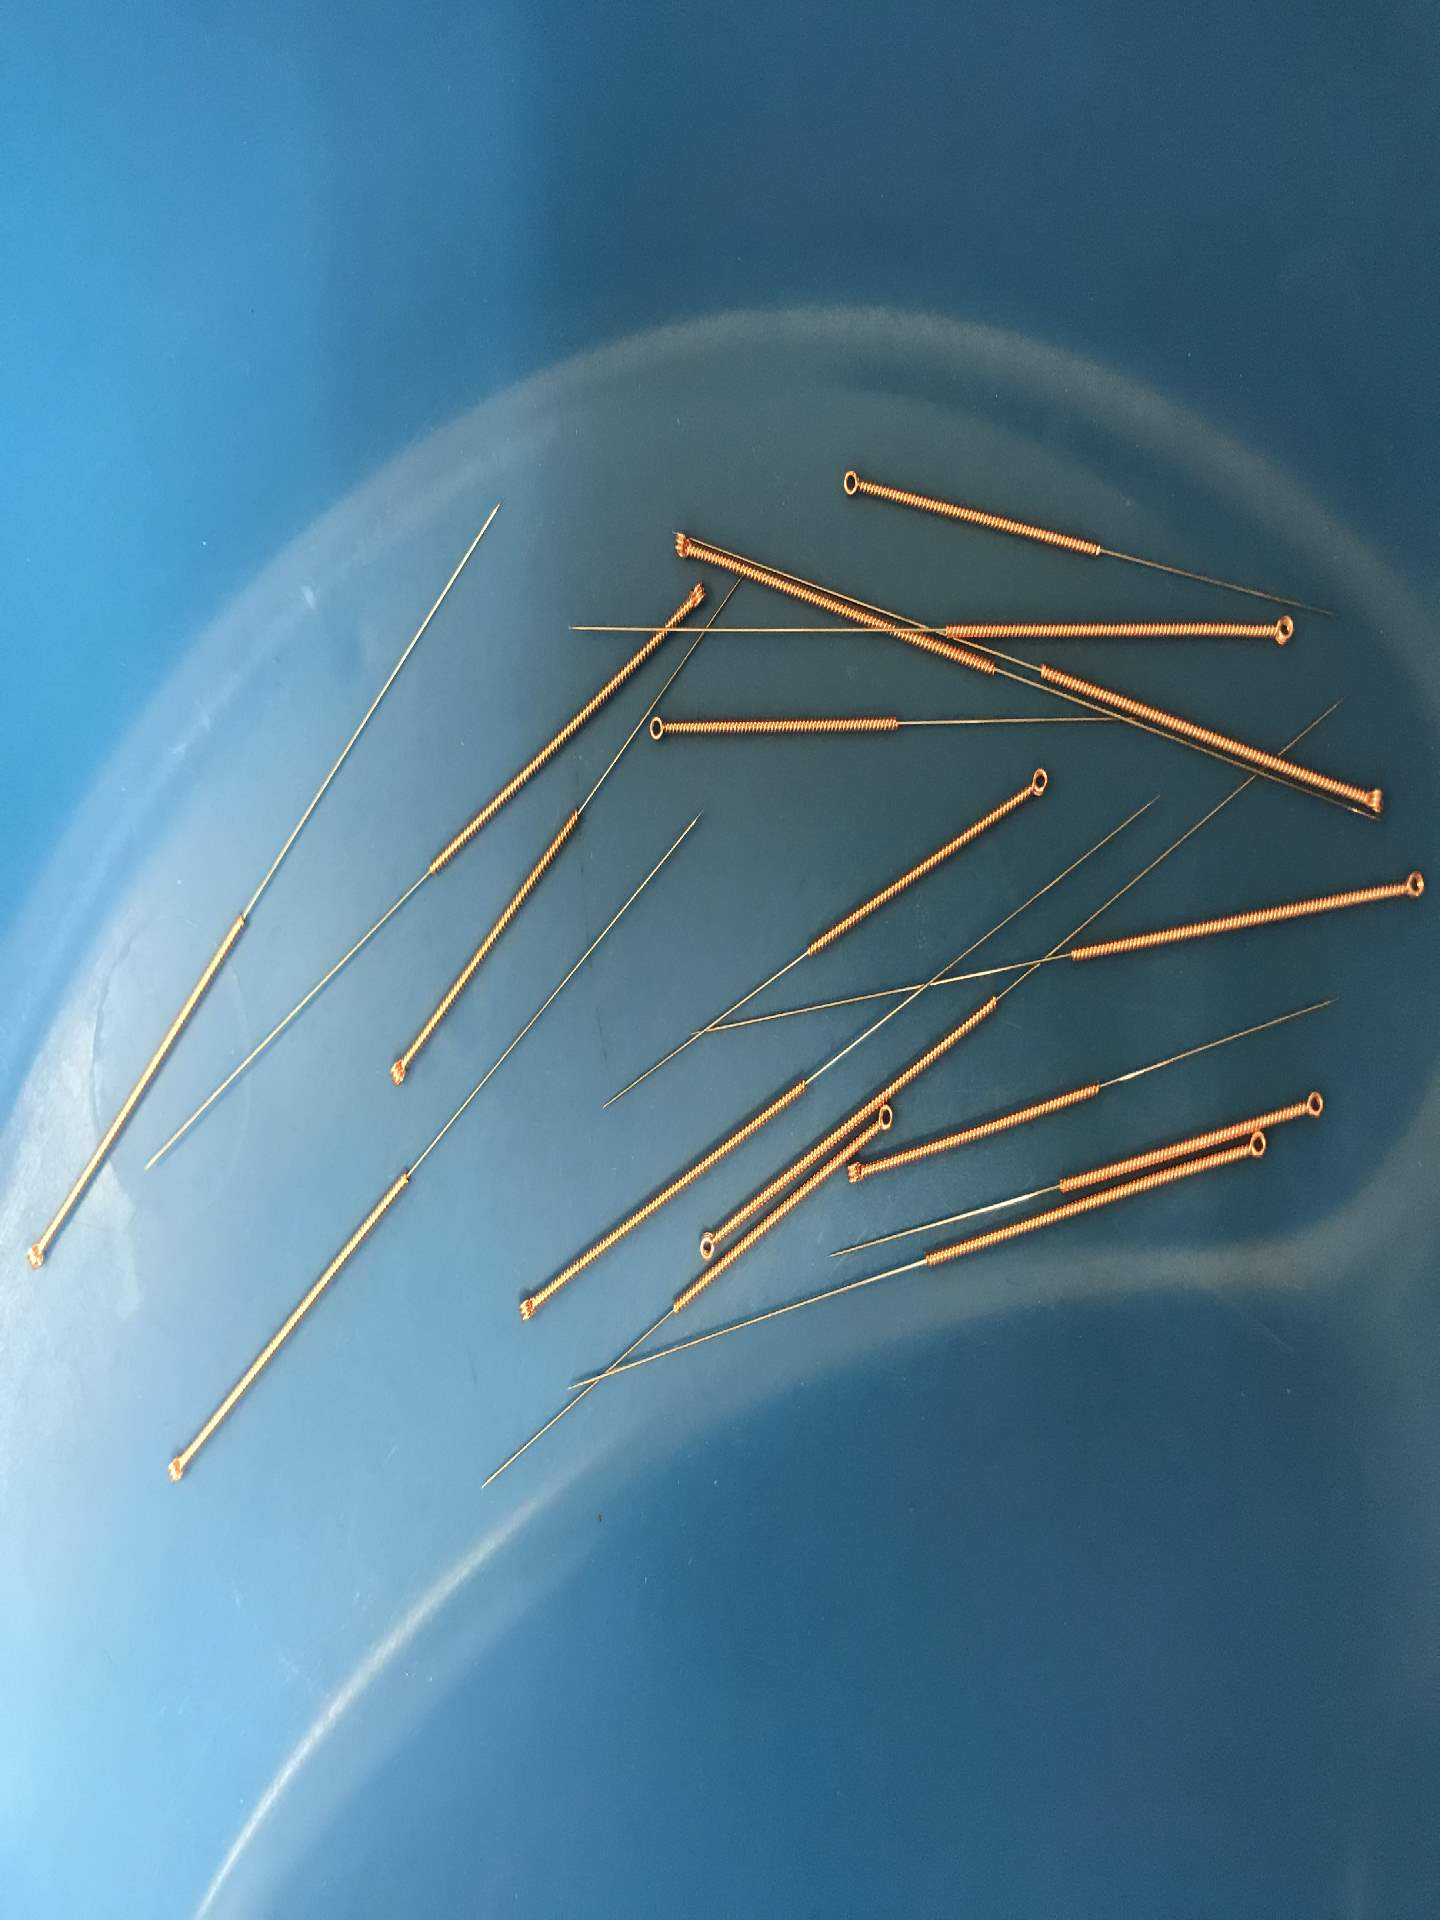needle: (153, 1444, 197, 1494), (1255, 606, 1302, 652), (507, 1285, 551, 1332), (1352, 777, 1395, 824), (830, 460, 871, 506), (1290, 1082, 1333, 1126), (1392, 862, 1432, 906), (375, 1051, 414, 1095), (17, 1234, 54, 1279), (663, 523, 700, 568), (1019, 760, 1056, 807), (635, 708, 675, 750), (678, 574, 712, 618), (1239, 1126, 1272, 1166), (839, 1157, 874, 1191), (691, 1228, 725, 1262), (870, 1101, 902, 1135)
